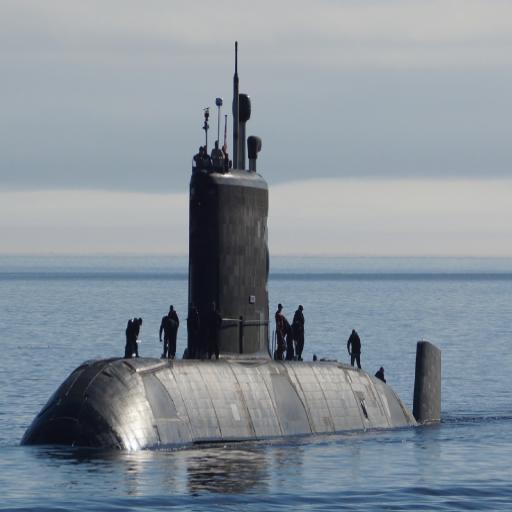submarine: (22, 167, 443, 444)
